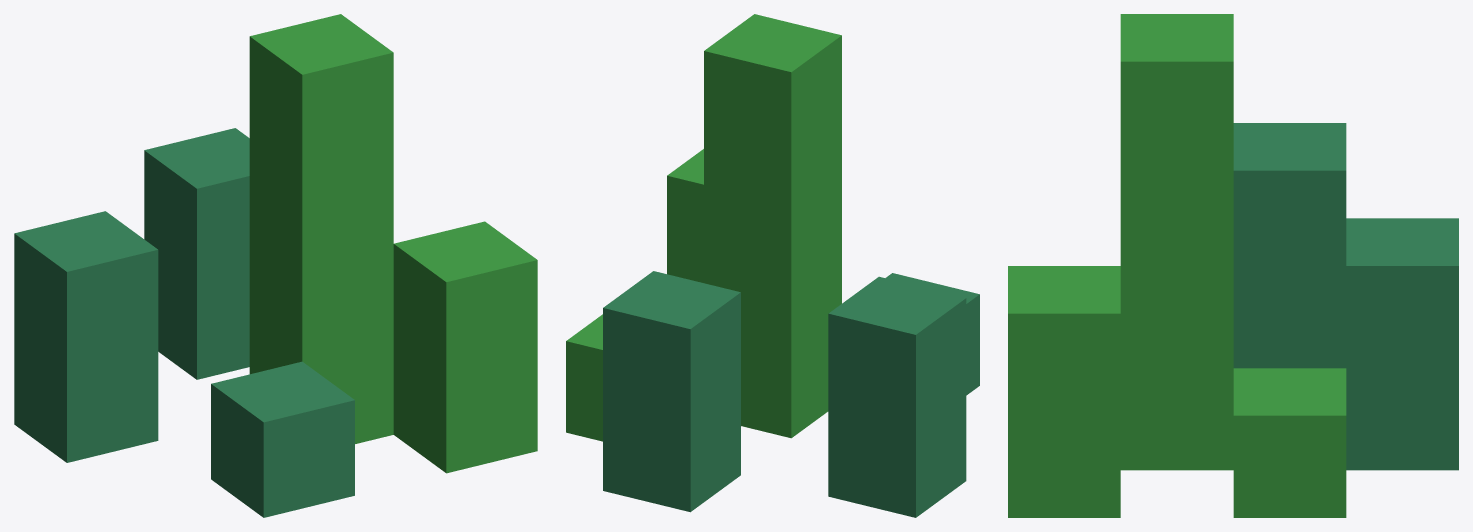
The model's file is matinho.obj.
3 views of the same model, side by side, from view 1: azimuth 30°, elevation 25°; view 2: azimuth 150°, elevation 25°; view 3: azimuth 270°, elevation 25° (orthographic). The views are drawn at different scales.
Bounding box in the file's own units: 0.4 × 0.4 × 0.4.
1 material, 1 textured.
